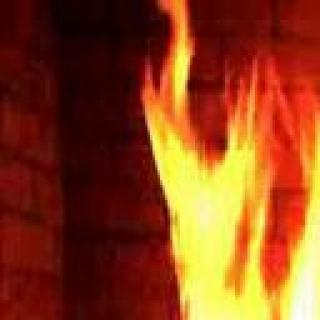fire: (154, 48, 320, 320)
